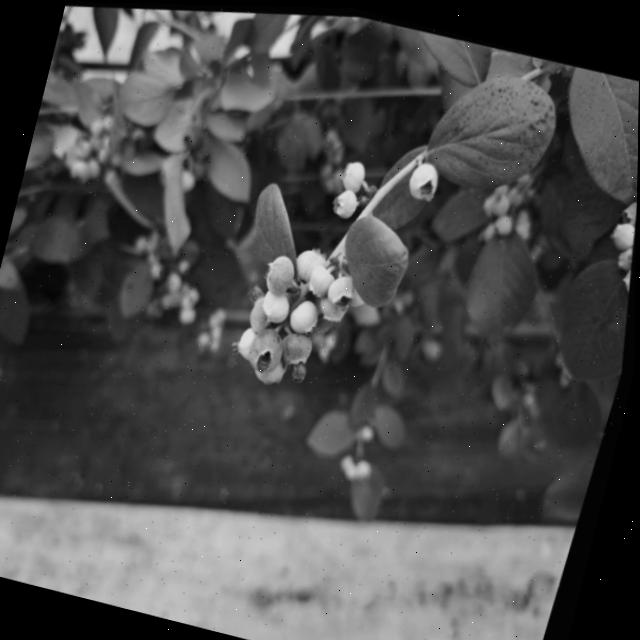RipeBlueBerry: (234, 319, 296, 391), (272, 317, 326, 378), (258, 251, 302, 306)
Semi-RipeBlueBerry: (284, 288, 330, 340)
UnripeBlueBerry: (331, 137, 388, 200), (401, 149, 453, 203), (318, 266, 363, 322)
